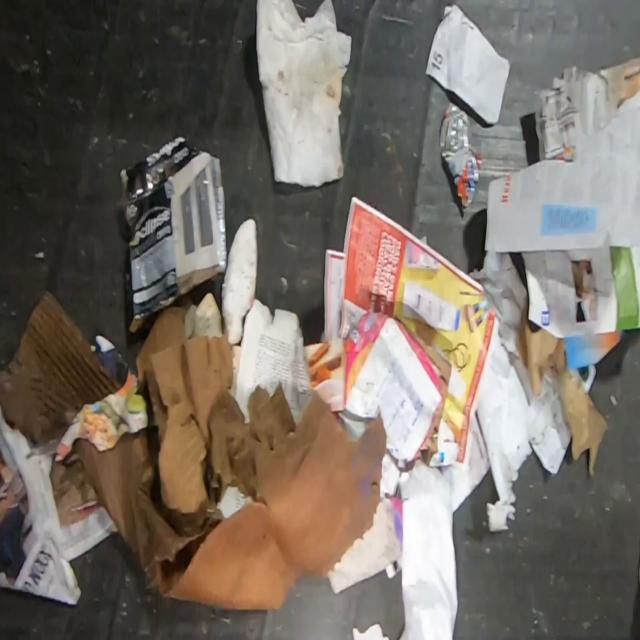cardboard: (143, 335, 294, 535), (120, 134, 226, 330), (0, 288, 124, 445)
metal: (438, 102, 483, 209)
